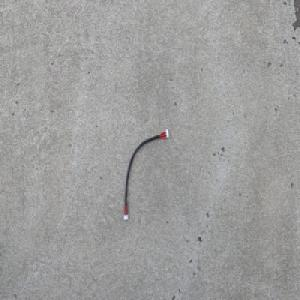Wire: (122, 128, 169, 221)
